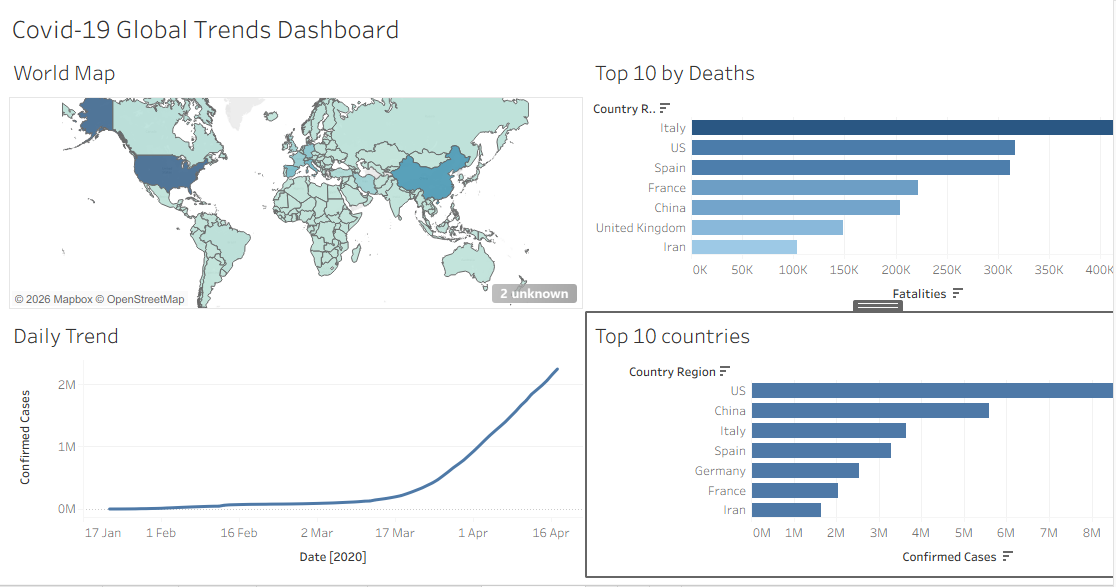

What the dashboard file says about the page in this screenshot:
{"tool":"tableau","page":{"name":"Dashboard 1","canvas":[1000,1000],"units":"permille","ordinal":0},"visuals":[{"type":"title","box":[6.9,13.7,986.1,71.9]},{"type":"worksheet","title":"World Map","mark":"Multipolygon","box":[6.9,85.6,423.8,450.3]},{"type":"worksheet","title":"Top 10 by Deaths","mark":"Automatic","rows":["Country_Region"],"cols":["Fatalities"],"box":[430.7,85.6,423.8,450.3]},{"type":"legend","title":"World Map","param":"[federated.1knjajg080o2mj1388xmd1uct5q8].[sum:ConfirmedCases:qk]","box":[854.5,85.6,138.5,111.3]},{"type":"legend","title":"Top 10 by Deaths","param":"[federated.1knjajg080o2mj1388xmd1uct5q8].[sum:Fatalities:qk]","box":[854.5,196.9,138.5,111.3]},{"type":"worksheet","title":"Daily Trend","mark":"Automatic","rows":["ConfirmedCases"],"cols":["Date"],"box":[6.9,536,423.8,450.3]},{"type":"worksheet","title":"Top 10 countries","mark":"Automatic","rows":["Country_Region"],"cols":["ConfirmedCases"],"box":[430.7,536,423.8,450.3]}]}

Visuals, with their boxes on the dashboard's canvas, which has no fixed pixel size, in thousandths of its width and height (x1, y1, x2, y2). These are canvas units, not pixel positions in the 1116x587 screenshot, which may show the page scaled, cropped or inside an application window:
title: detection(7, 14, 993, 86)
"World Map" worksheet (Multipolygon marks): detection(7, 86, 431, 536)
"Top 10 by Deaths" worksheet: detection(431, 86, 854, 536)
"World Map" legend: detection(854, 86, 993, 197)
"Top 10 by Deaths" legend: detection(854, 197, 993, 308)
"Daily Trend" worksheet: detection(7, 536, 431, 986)
"Top 10 countries" worksheet: detection(431, 536, 854, 986)
